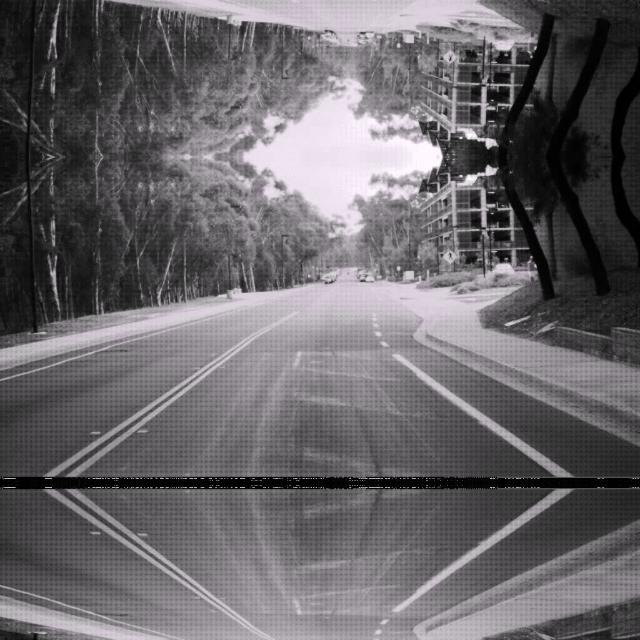pedestrianCrossing: (442, 248, 456, 262), (442, 50, 456, 64)
